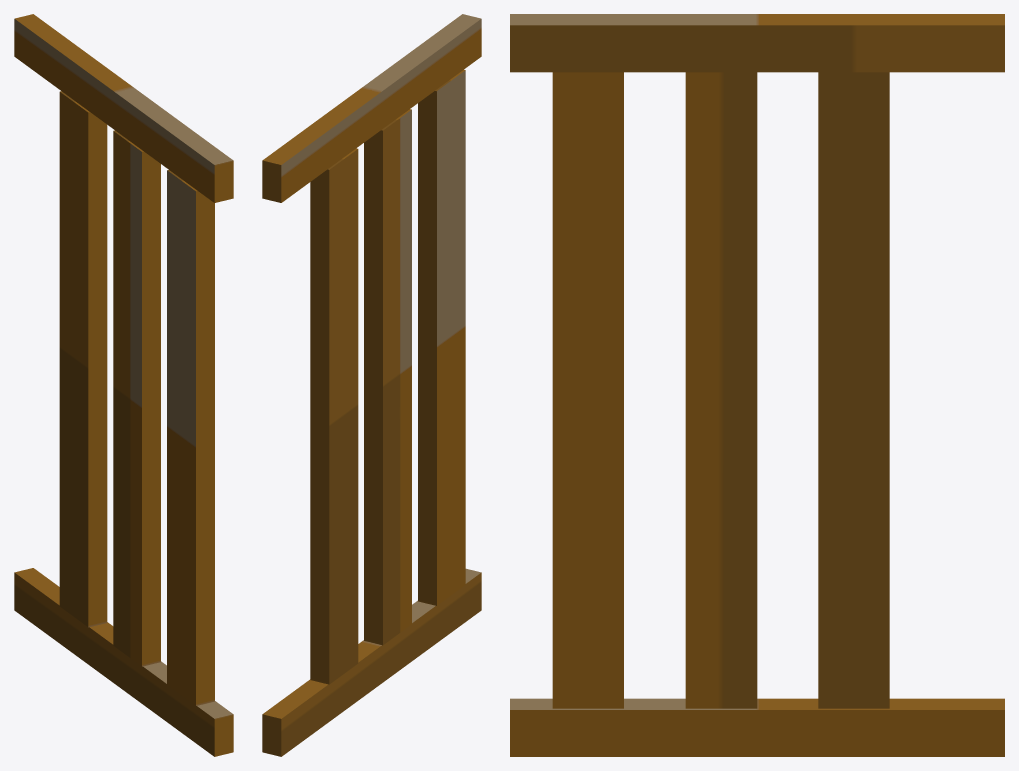
Rendered from fence.glb.
3 views of the same model, side by side, from view 1: azimuth 30°, elevation 25°; view 2: azimuth 150°, elevation 25°; view 3: azimuth 270°, elevation 25° (orthographic). The views are drawn at different scales.
Parts seen in each view (by area): view 1: Cube.004; view 2: Cube.004; view 3: Cube.004.
Boxes of the visible parts, x1,y1,x2,y2 form: Cube.004: [14, 14, 233, 756]; Cube.004: [262, 14, 481, 756]; Cube.004: [510, 14, 1004, 756].
Bounding box in the file's own units: 0.1548 × 4.3 × 2.63.
Materials: 1 (1 with a texture image).
